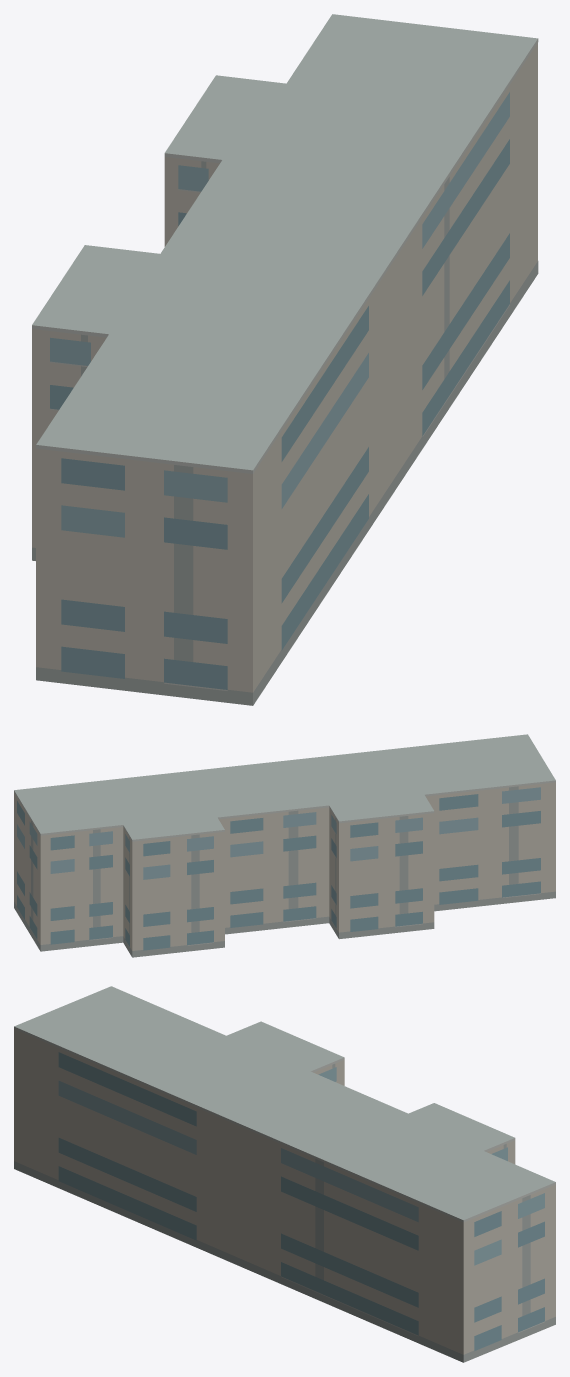
Rendered from residential-bd5189c6-5d76-4dee-8940-7b690da3f5ad.glb.
3 renders of one model, top to bottom at view 1: azimuth 30°, elevation 25°; view 2: azimuth 150°, elevation 25°; view 3: azimuth 270°, elevation 25°, orthographic. The views are drawn at different scales.
Visible parts, largest first — view 1: residential-bd5189c6-5d76-4dee-8940-7b690da3f5ad.tmp; view 2: residential-bd5189c6-5d76-4dee-8940-7b690da3f5ad.tmp; view 3: residential-bd5189c6-5d76-4dee-8940-7b690da3f5ad.tmp.
Part boxes in pixels (<box>): residential-bd5189c6-5d76-4dee-8940-7b690da3f5ad.tmp: <box>32,14,538,705</box>; residential-bd5189c6-5d76-4dee-8940-7b690da3f5ad.tmp: <box>14,734,555,957</box>; residential-bd5189c6-5d76-4dee-8940-7b690da3f5ad.tmp: <box>14,986,555,1362</box>.
Size of the model in its own units: 53.75 by 15.25 by 52.56.
